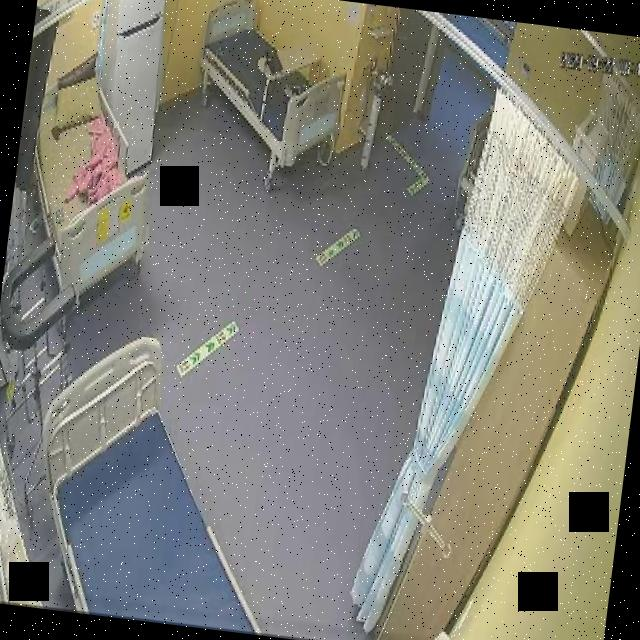bed: (20, 326, 293, 632), (15, 60, 172, 304), (186, 0, 355, 175)
walker: (0, 234, 84, 516)
